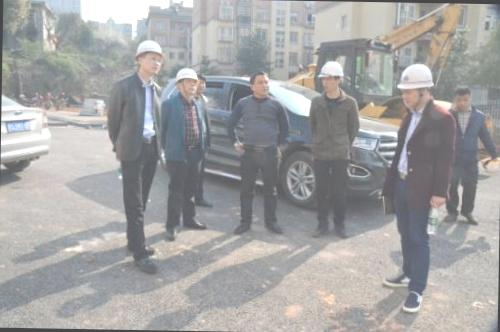no_helmet: (248, 69, 270, 97), (453, 85, 473, 112), (192, 73, 207, 97)
